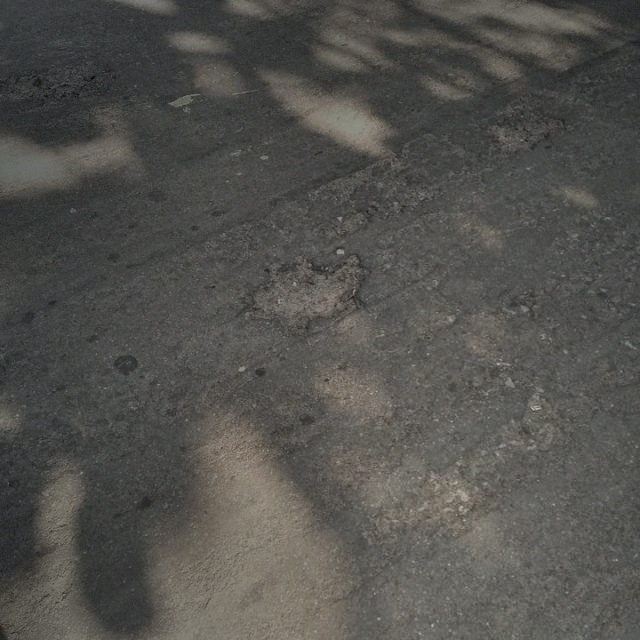pothole: (242, 250, 372, 332), (0, 58, 119, 106)
